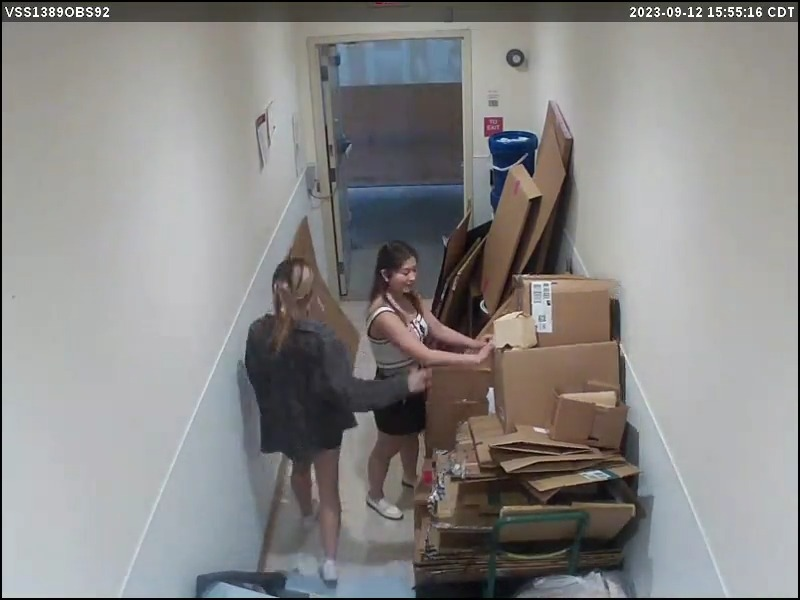No-gloves: (397, 366, 439, 397), (469, 322, 501, 354), (466, 344, 502, 370)
